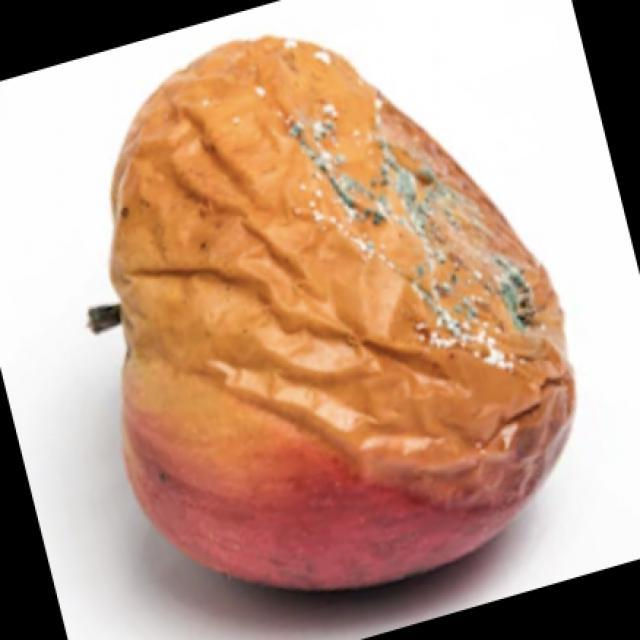Rotten: (103, 45, 562, 583)
